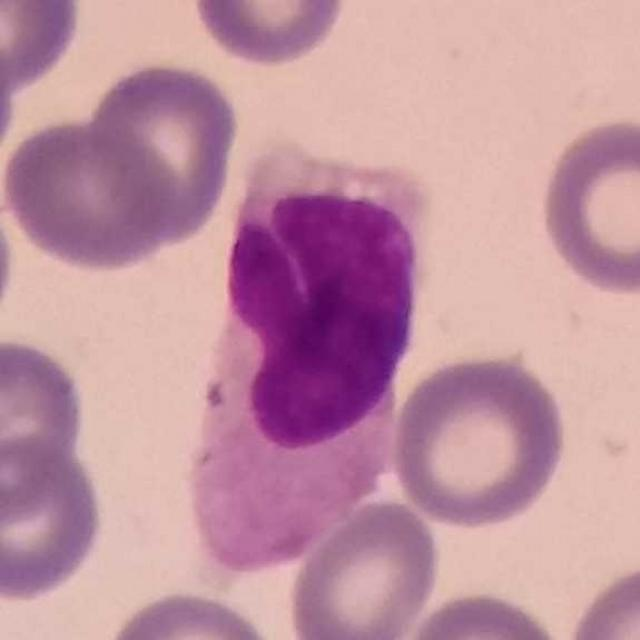mono: (200, 126, 415, 572)
